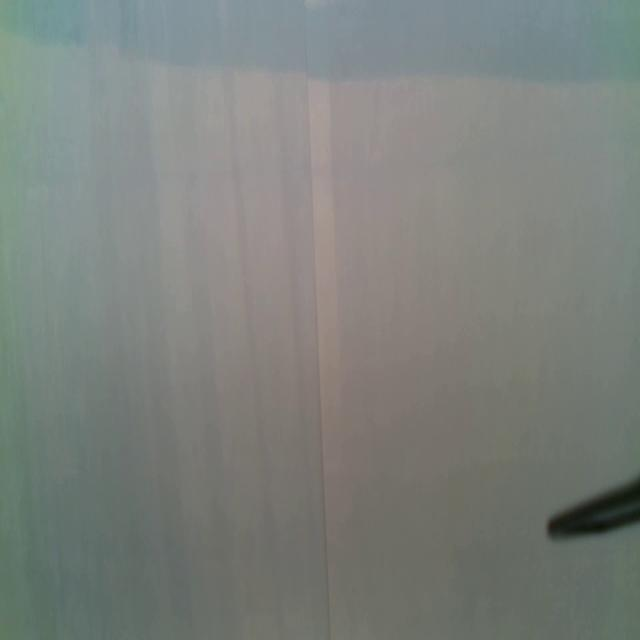color bleeding: (0, 0, 640, 86)
crease: (302, 0, 334, 640)
